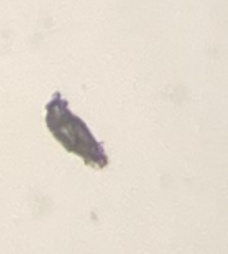microplastic: (44, 92, 108, 167)
